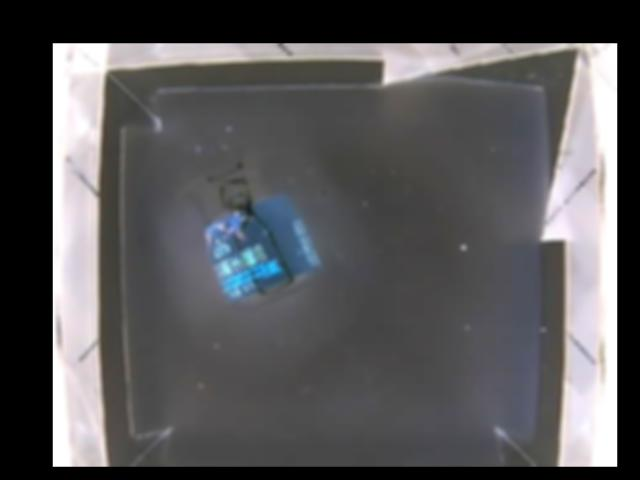Bottle: (194, 151, 325, 307)
